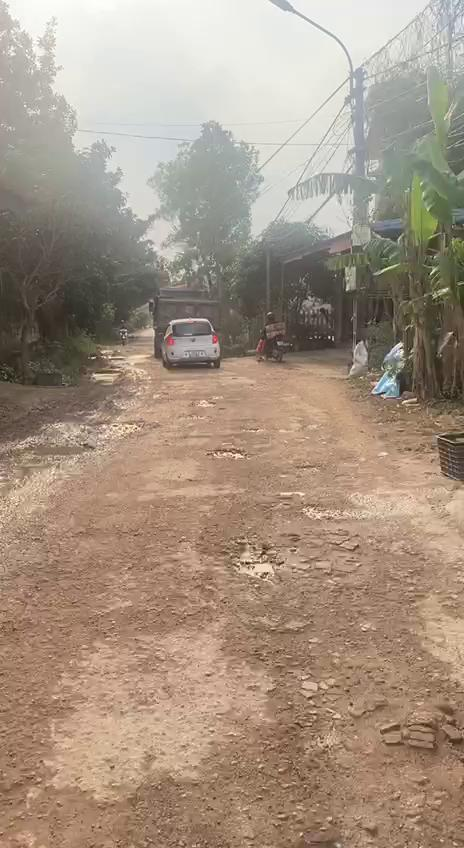pothole: (217, 535, 283, 583), (210, 446, 250, 460)
